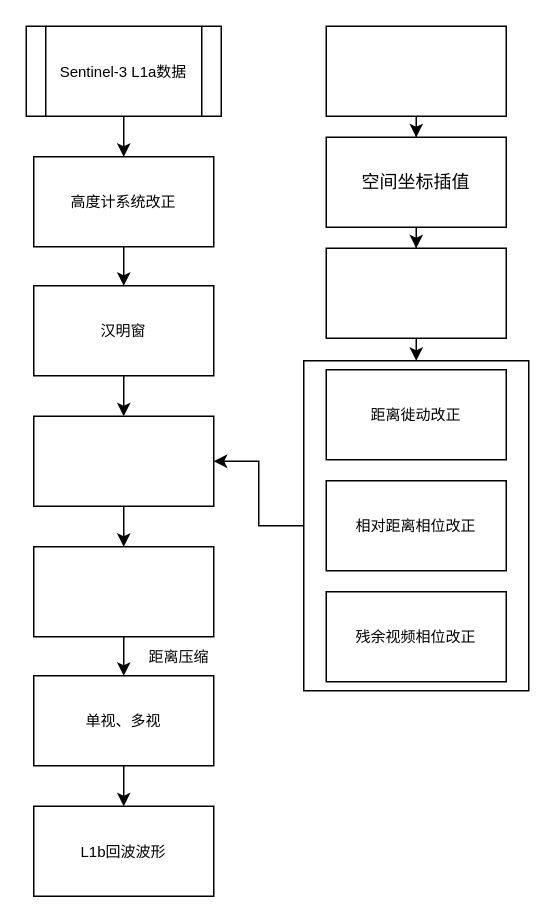
This 555x923 diagram has some shape labels left out. Here are the shapes that lost their labels. From the top down, the centre of each, then its label:
(415,70): 地面参考点格网化
(415,292): 多普勒改正
(123,460): 反向投影算法
(123,591): 方位向相干累加
